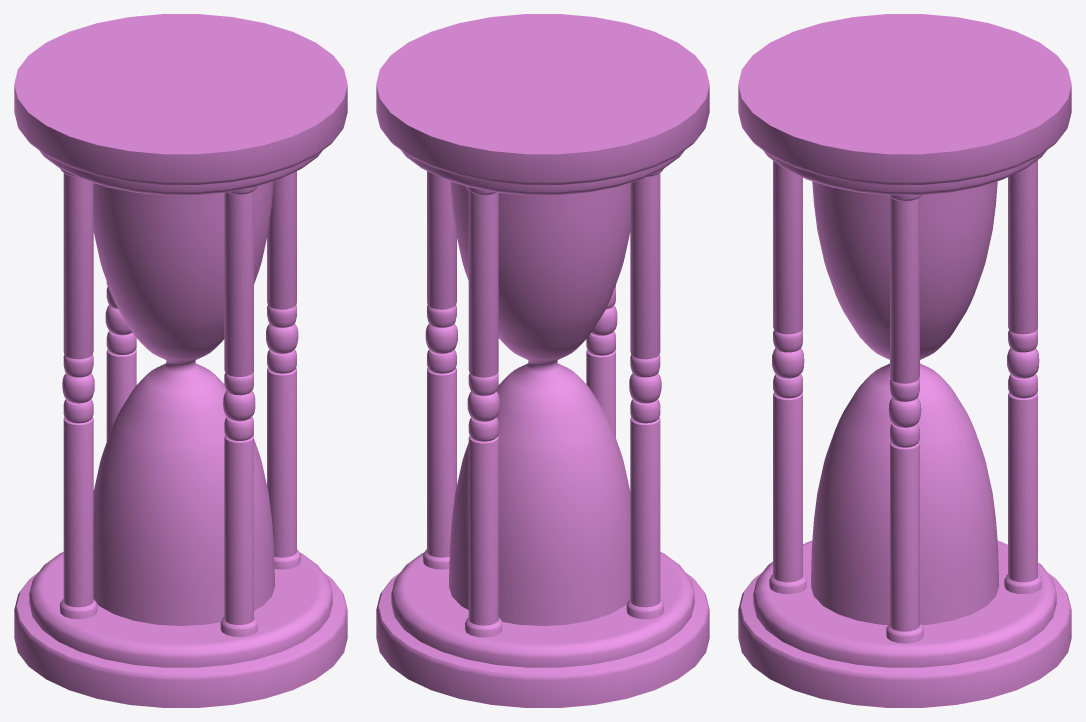
The model's file is SM_HourGlass_mesh_lod0.fbx.
3 renders of one model, left to right at view 1: azimuth 30°, elevation 25°; view 2: azimuth 150°, elevation 25°; view 3: azimuth 270°, elevation 25°, orthographic.
Visible parts, largest first — view 1: Cylinder.008, Cylinder.005; view 2: Cylinder.008, Cylinder.005; view 3: Cylinder.008, Cylinder.005.
Part boxes in pixels (x1,y1,x2,y2): Cylinder.008: (14, 14, 347, 707); Cylinder.005: (93, 181, 274, 625); Cylinder.008: (376, 14, 709, 707); Cylinder.005: (449, 181, 630, 625); Cylinder.008: (738, 14, 1071, 707); Cylinder.005: (811, 181, 998, 624).
Size of the model in its own units: 199 by 366 by 200.
